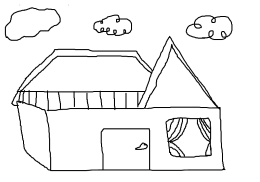clouds: (4, 6, 61, 42), (185, 11, 233, 42), (91, 14, 132, 37)
door: (97, 123, 153, 173)
open_window: (164, 117, 212, 158)
roof: (10, 36, 221, 110)
wall: (42, 105, 226, 174)
